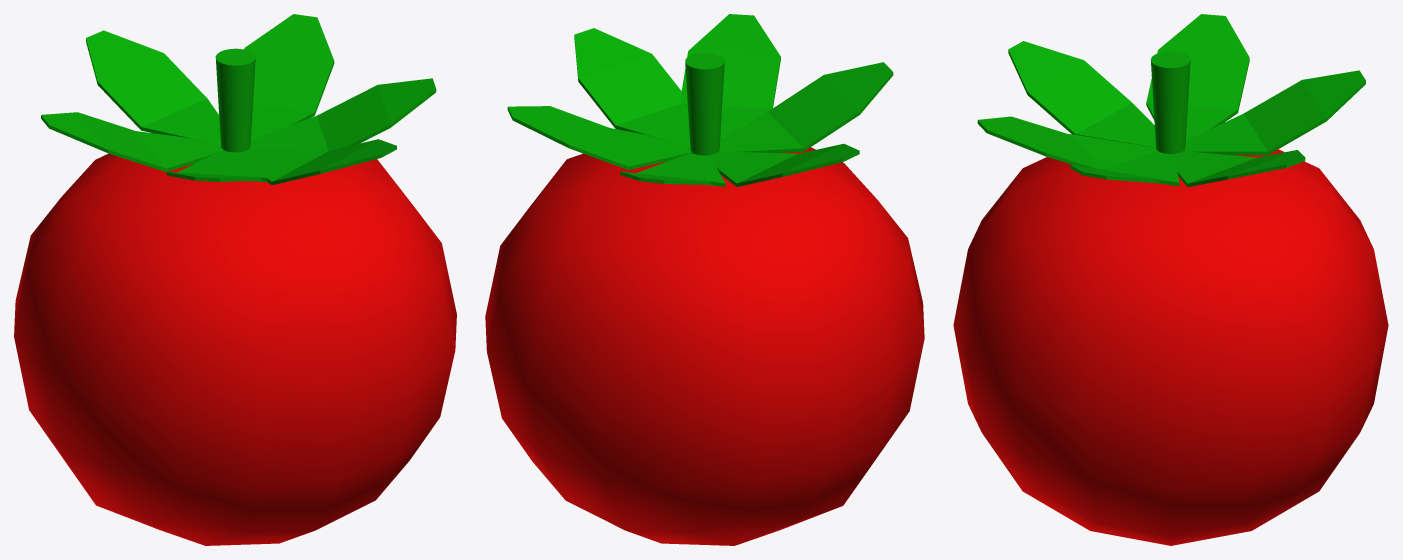
Rendered from Jitomate.fbx.
3 views of the same model, side by side, from view 1: azimuth 30°, elevation 25°; view 2: azimuth 150°, elevation 25°; view 3: azimuth 270°, elevation 25° (orthographic).
Visible parts, largest first — view 1: polySurface34; view 2: polySurface34; view 3: polySurface34.
Part boxes in pixels (x1,y1,x2,y2): polySurface34: [14, 14, 456, 545]; polySurface34: [485, 14, 924, 545]; polySurface34: [953, 14, 1388, 545].
Bounding box in the file's own units: 2.13 × 2.5 × 2.13.
